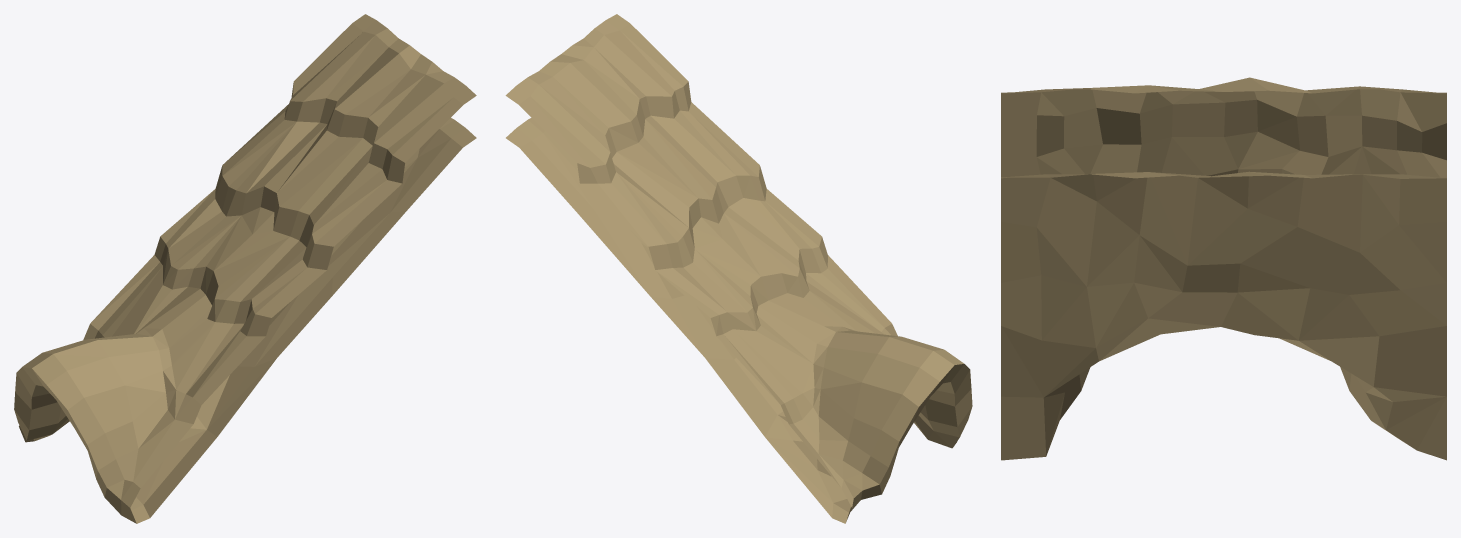
File: rpgpp_ag_roof_02c_9x4x3_half.fbx
3 views of the same model, side by side, from view 1: azimuth 30°, elevation 25°; view 2: azimuth 150°, elevation 25°; view 3: azimuth 270°, elevation 25° (orthographic). The views are drawn at different scales.
Visible parts, largest first — view 1: rpgpp_ag_roof_02c_9x4x3_half; view 2: rpgpp_ag_roof_02c_9x4x3_half; view 3: rpgpp_ag_roof_02c_9x4x3_half.
Boxes of the visible parts, box(x1,y1,x2,y2) form: rpgpp_ag_roof_02c_9x4x3_half: box(14, 14, 476, 523); rpgpp_ag_roof_02c_9x4x3_half: box(505, 14, 972, 523); rpgpp_ag_roof_02c_9x4x3_half: box(1001, 77, 1446, 460).
Bounding box in the file's own units: 6.08 × 5.16 × 3.
